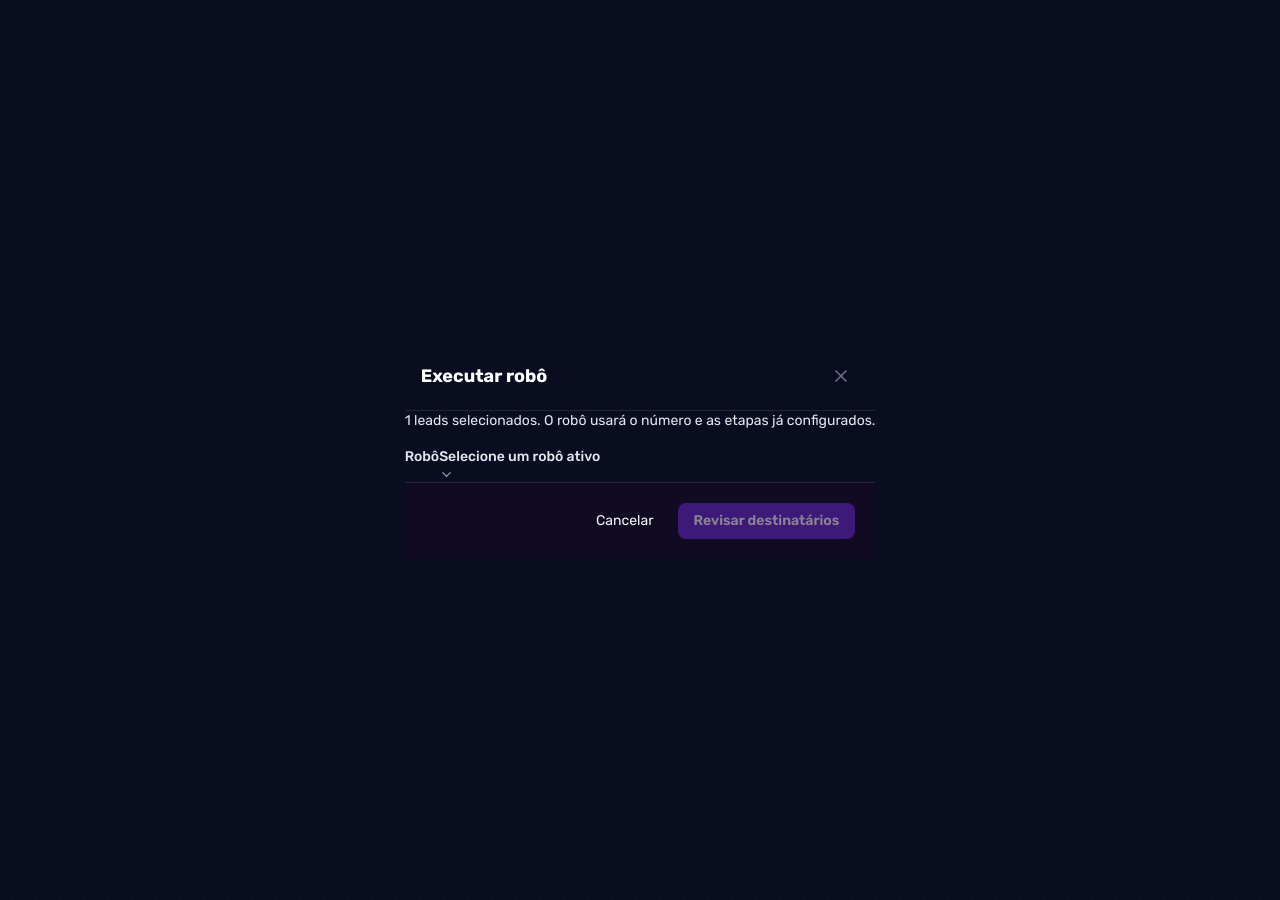
Test: bulk robot confirmation › reviews recipients before starting and shows the queue result
This screenshot has width=1280, height=900.
Click the dropdown labelled "robô" at (520, 464), box x1=439 y1=446 x2=600 y2=482
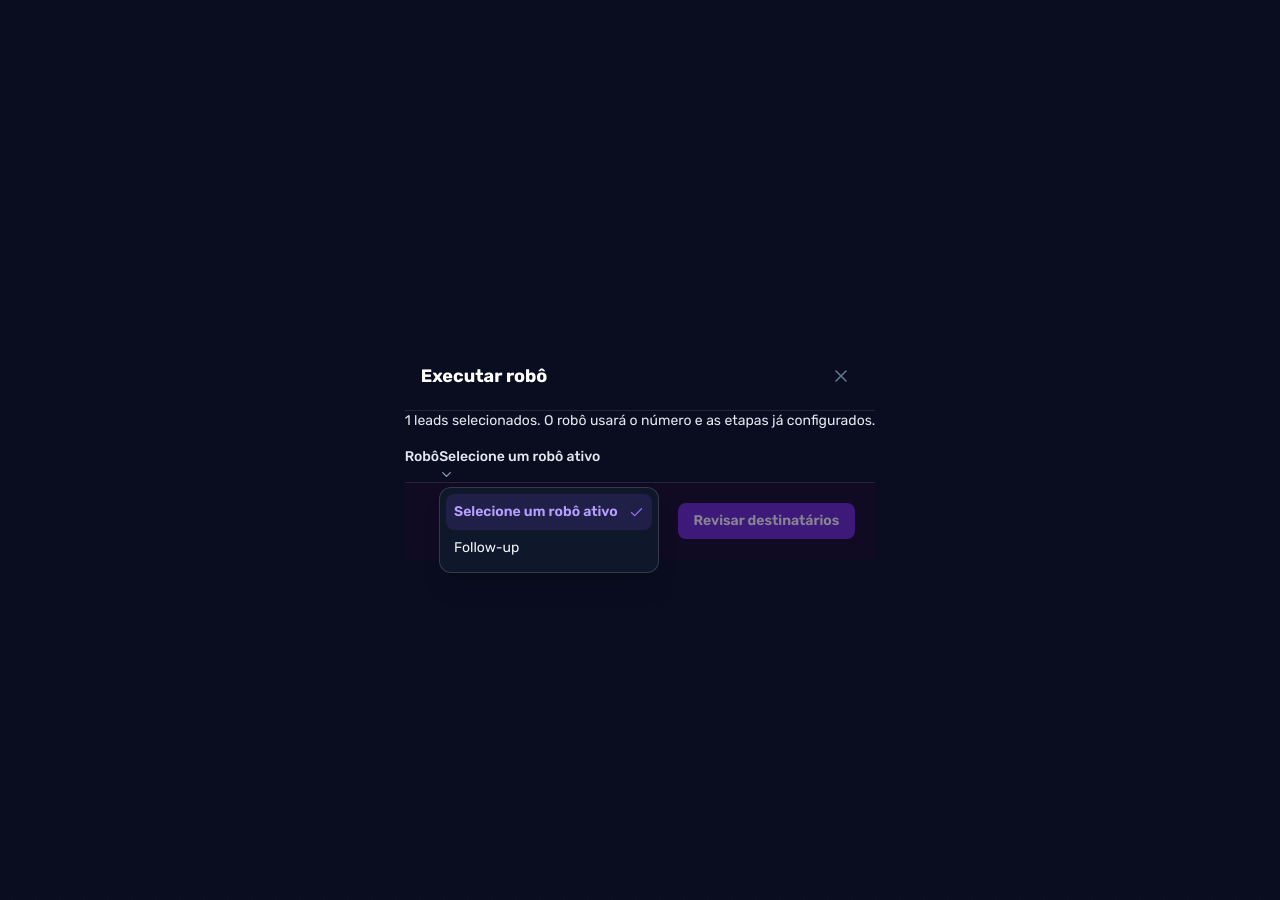
Click the option "Follow-up" at (487, 548), box x1=454 y1=539 x2=519 y2=556
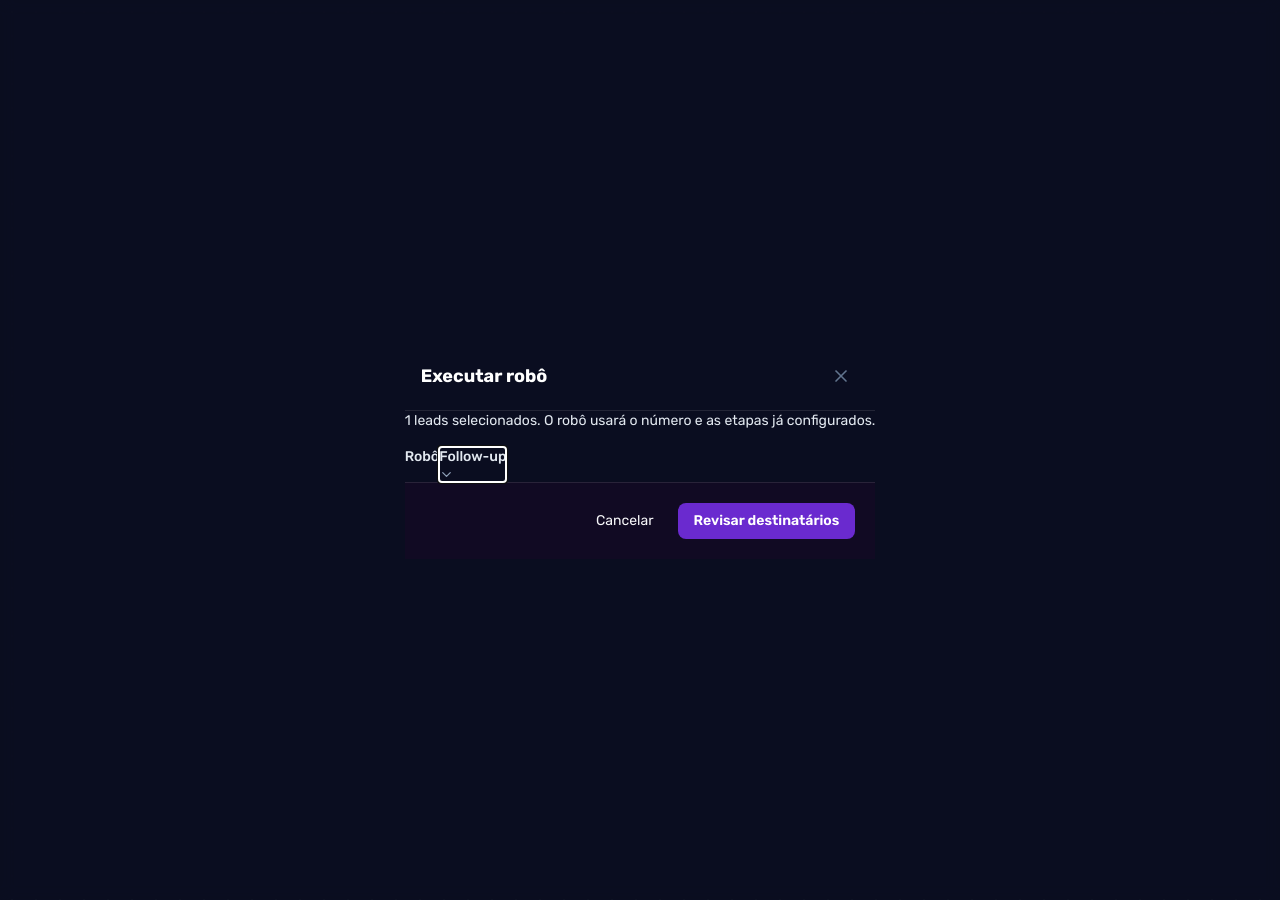
Click the button "Revisar destinatários" at (766, 520), box x1=678 y1=502 x2=855 y2=538
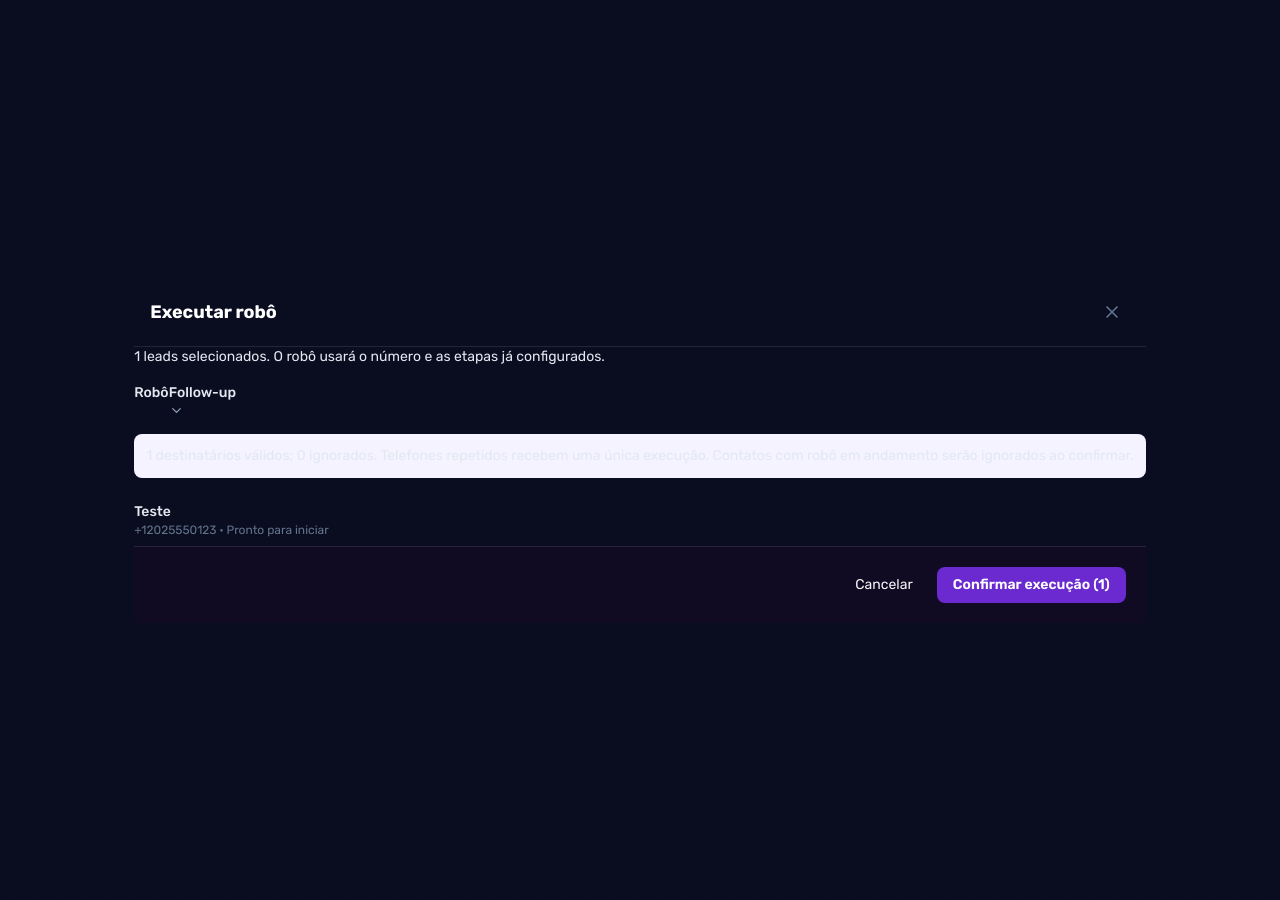
Expected: the button "Confirmar execução (1)" is shown
Click the button "Confirmar execução (1)" at (1031, 584), box x1=937 y1=566 x2=1126 y2=602
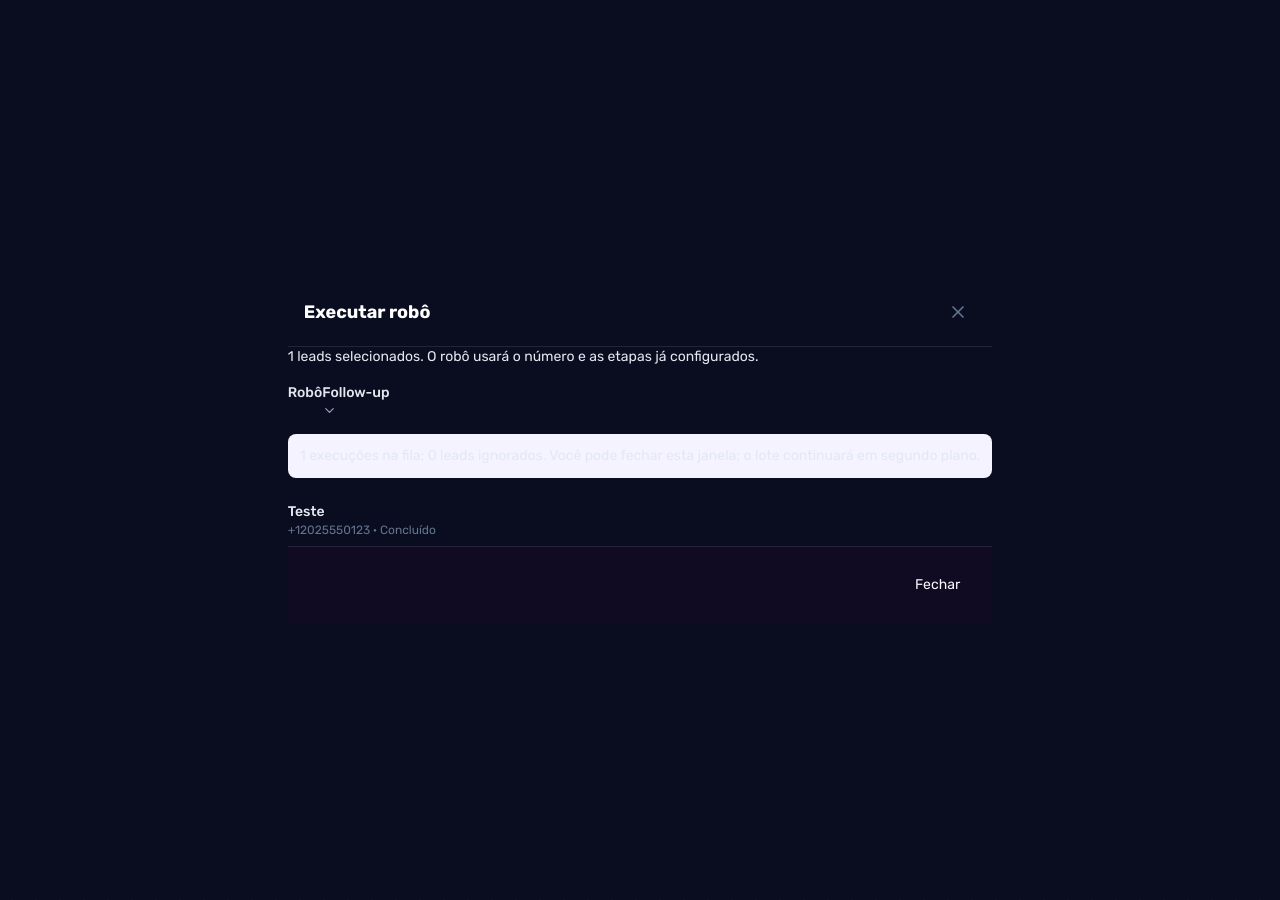
Expected: the text "+12025550123 · Concluído" is shown, x1=288 y1=522 x2=436 y2=536
